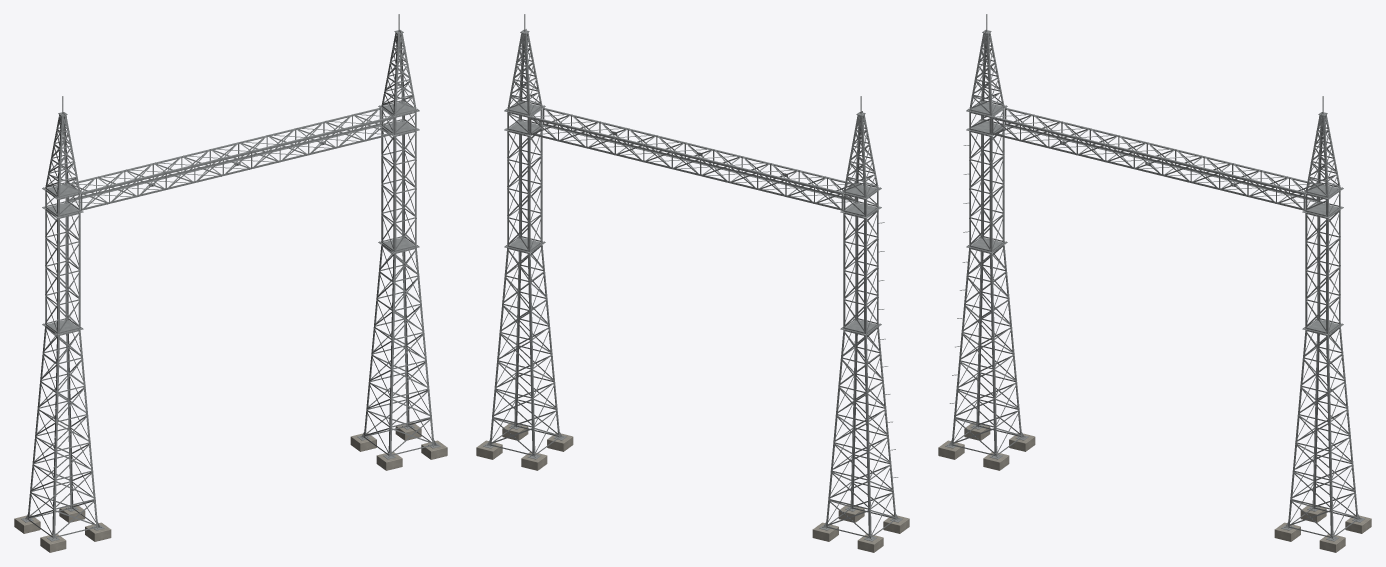
File: Gantry_138kV.fbx
The picture shows the model from 3 angles, left to right: view 1: azimuth 30°, elevation 25°; view 2: azimuth 150°, elevation 25°; view 3: azimuth 330°, elevation 25°; orthographic projection.
Parts seen in each view (by area): view 1: Body_GalvanizedSteel_LOD0, Body_Concrete_LOD0; view 2: Body_GalvanizedSteel_LOD0, Body_Concrete_LOD0; view 3: Body_GalvanizedSteel_LOD0, Body_Concrete_LOD0.
Part boxes in pixels (<box>): Body_GalvanizedSteel_LOD0: <box>21,14,440,541</box>; Body_Concrete_LOD0: <box>14,422,447,552</box>; Body_GalvanizedSteel_LOD0: <box>483,14,902,541</box>; Body_Concrete_LOD0: <box>476,422,909,552</box>; Body_GalvanizedSteel_LOD0: <box>945,14,1364,541</box>; Body_Concrete_LOD0: <box>938,422,1371,552</box>.
Size of what is drawn, in the model's own units: 14.2 by 14.88 by 2.2.
